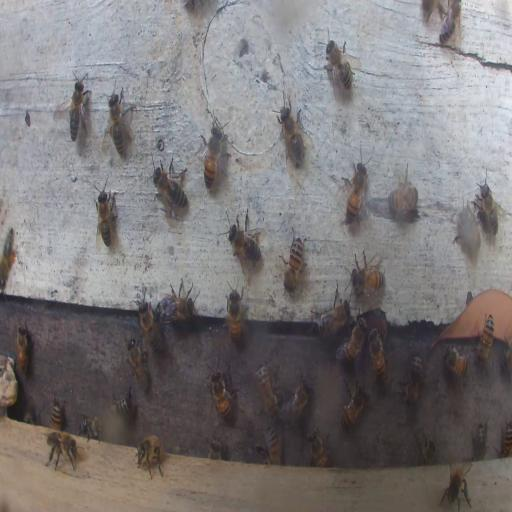bee: (150, 154, 188, 222), (225, 210, 264, 269), (276, 93, 307, 166), (104, 86, 136, 154), (92, 179, 119, 250), (156, 280, 198, 325), (312, 290, 348, 339), (346, 250, 384, 295), (324, 39, 354, 95), (388, 164, 418, 220), (345, 154, 369, 224), (42, 427, 78, 473), (280, 376, 311, 429), (440, 462, 473, 511), (473, 173, 500, 232), (66, 74, 89, 142), (136, 296, 164, 348), (338, 317, 366, 368), (282, 230, 304, 294), (396, 352, 422, 406), (203, 130, 224, 192), (126, 338, 151, 390), (211, 368, 238, 416), (340, 383, 368, 429), (135, 433, 163, 478), (457, 204, 482, 254), (0, 226, 17, 290), (437, 1, 461, 46), (258, 366, 278, 417), (226, 289, 244, 345), (368, 327, 386, 380), (475, 314, 494, 362), (0, 360, 19, 408), (308, 426, 329, 468), (16, 321, 30, 378), (442, 346, 468, 376), (416, 427, 436, 464), (112, 382, 132, 416), (471, 421, 488, 458), (77, 416, 102, 441), (266, 426, 278, 463), (500, 418, 511, 456), (49, 400, 62, 431), (207, 438, 222, 459)
